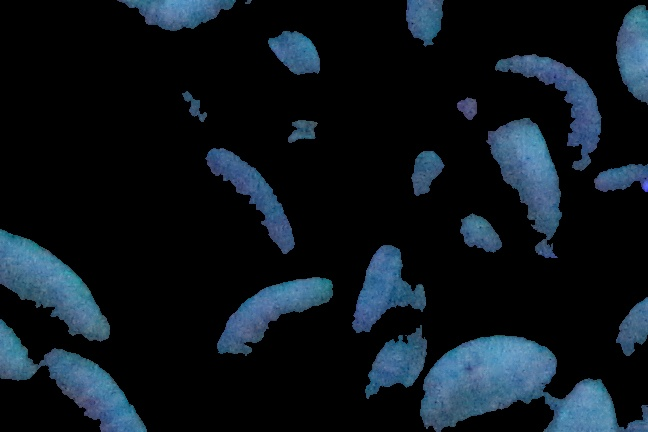larvae: (206, 272, 348, 405), (482, 53, 610, 181), (186, 148, 306, 272), (1, 226, 120, 344), (487, 108, 565, 279), (363, 274, 432, 422), (146, 1, 379, 36), (125, 43, 217, 131), (427, 362, 551, 426), (45, 356, 143, 432), (408, 1, 518, 67), (433, 323, 555, 379), (354, 231, 398, 328), (609, 6, 648, 102), (1, 318, 32, 391)
